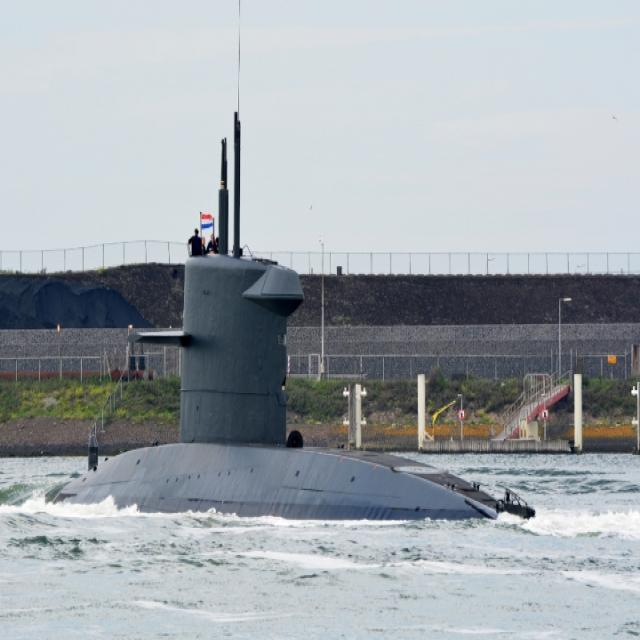submarine: (44, 107, 539, 516)
